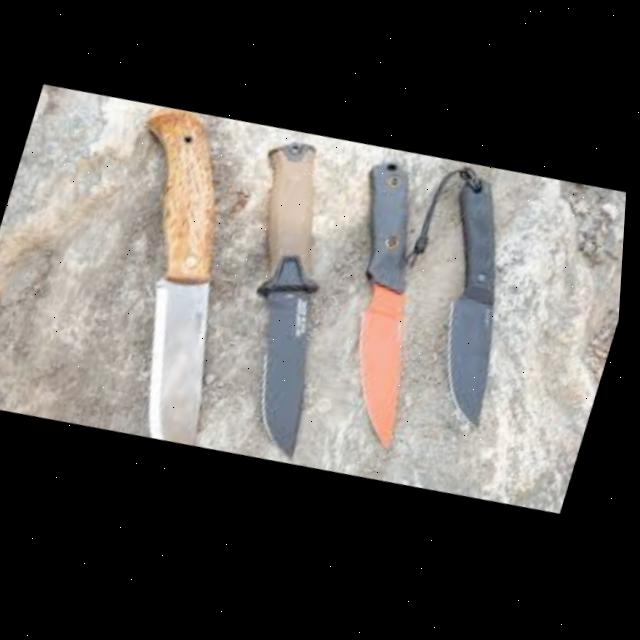Knife: (58, 99, 294, 456), (185, 133, 387, 467), (294, 157, 478, 461), (393, 166, 555, 438)
